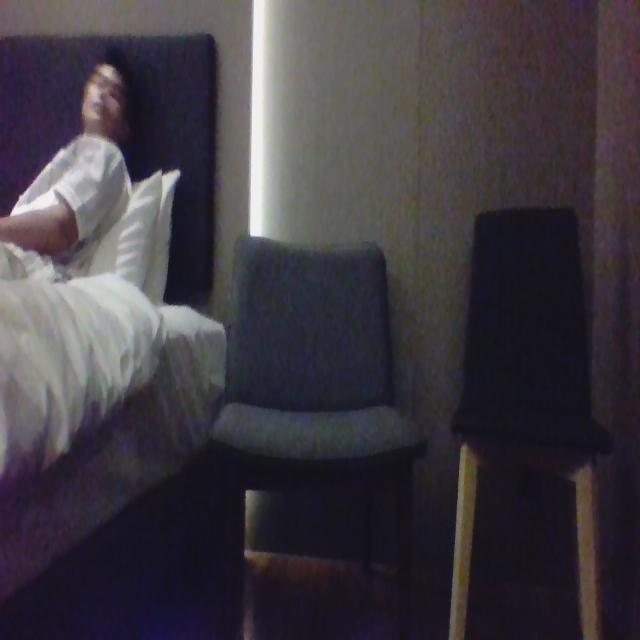empty: (230, 239, 402, 453), (461, 205, 584, 422)
